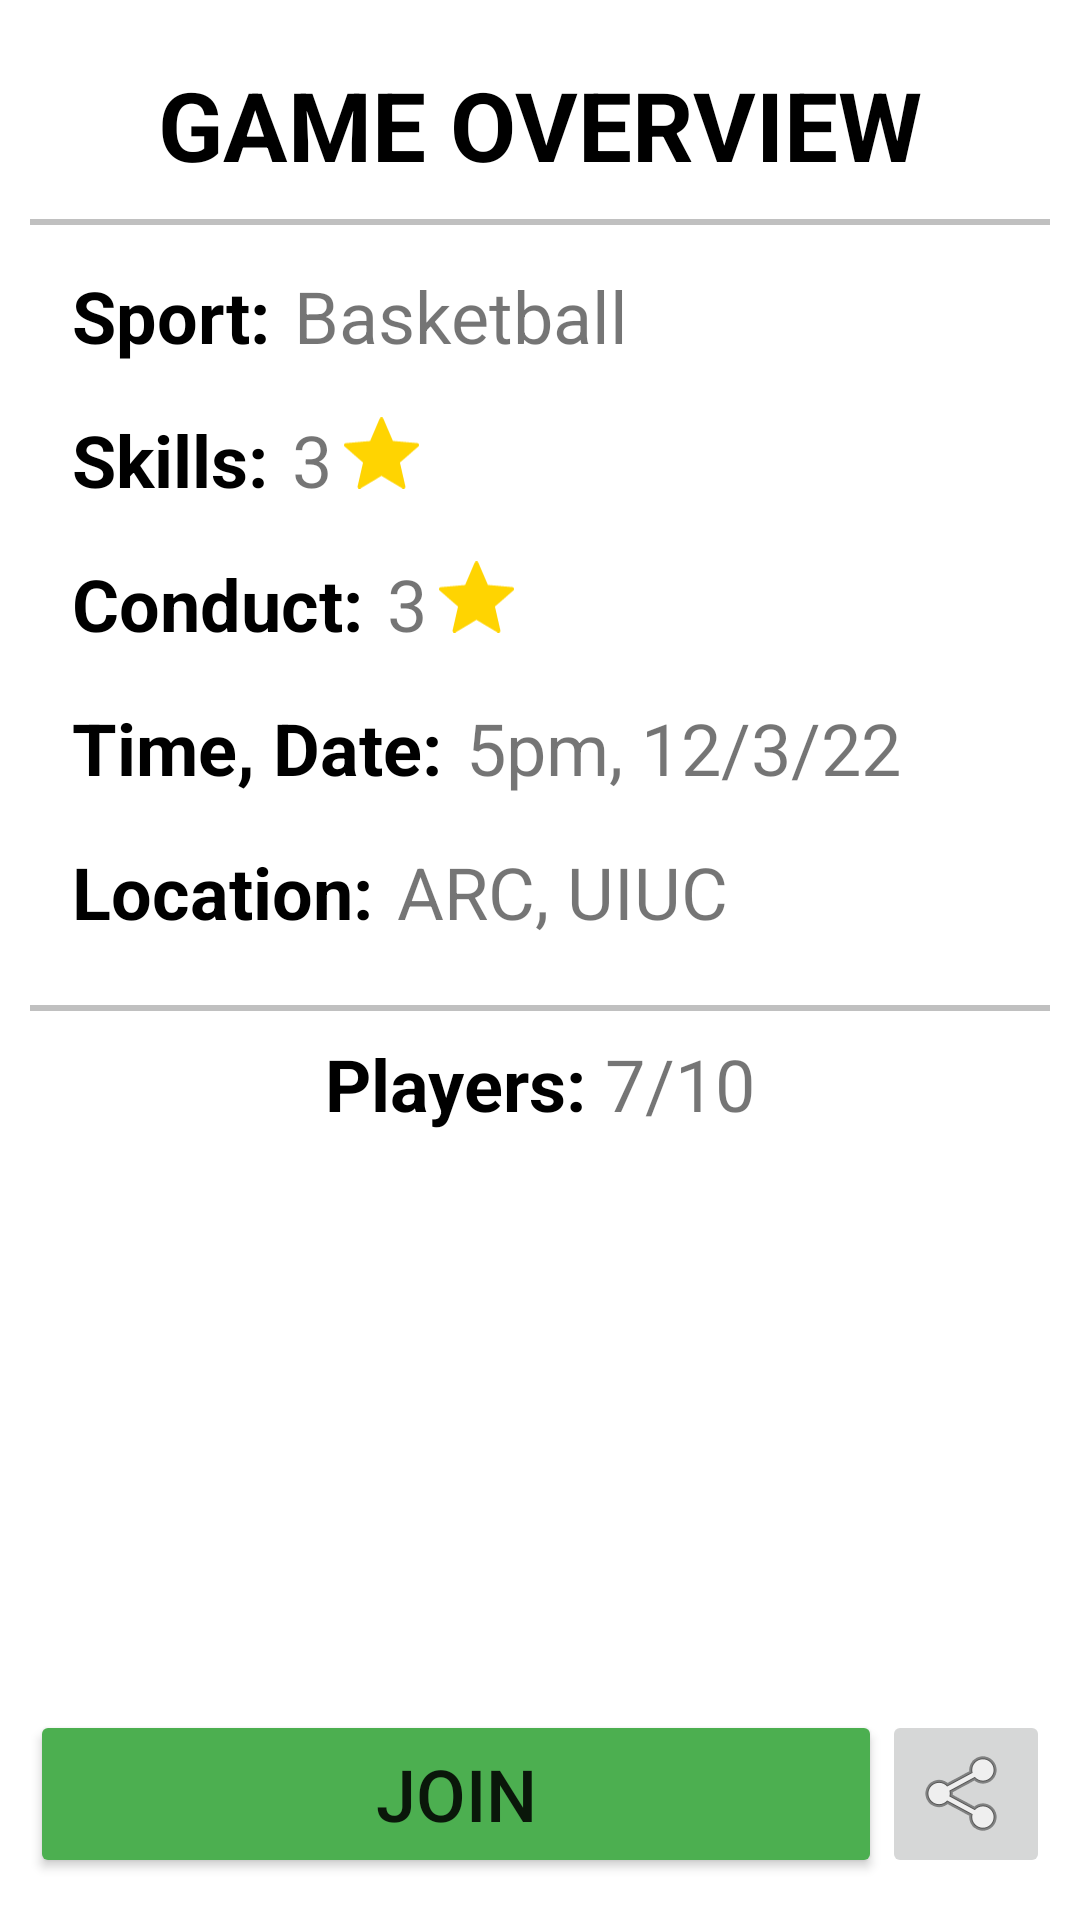

Point at icon controls on the screen. Image size 1080 x 1920, points as (x,y).
share: (966,1794)
star symbol: (381,453), (476,597)
